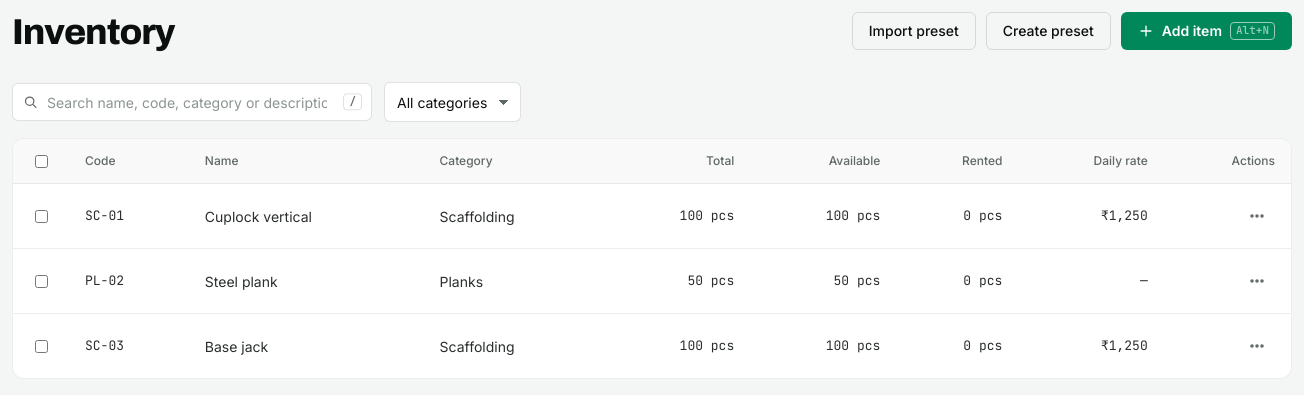
InventoryPage › shows filtered-empty and empty states
This screenshot has width=1304, height=395.
Check: the table is shown, box [13,139,1291,378]
In the search field named "Search inventory": (192, 102) [12,83,372,121], type "zzz"
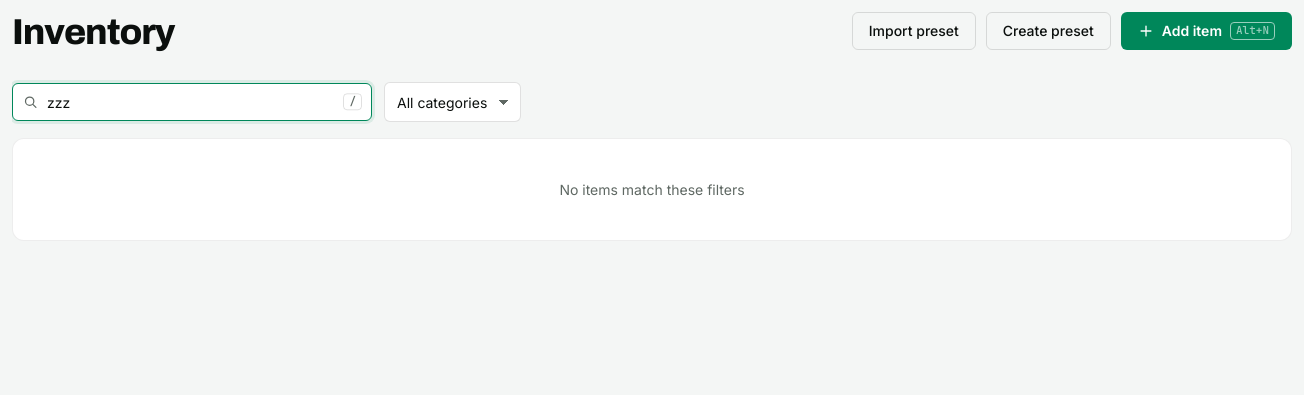
Check: the text "No items match these filters" is shown, box [559,179,745,200]
